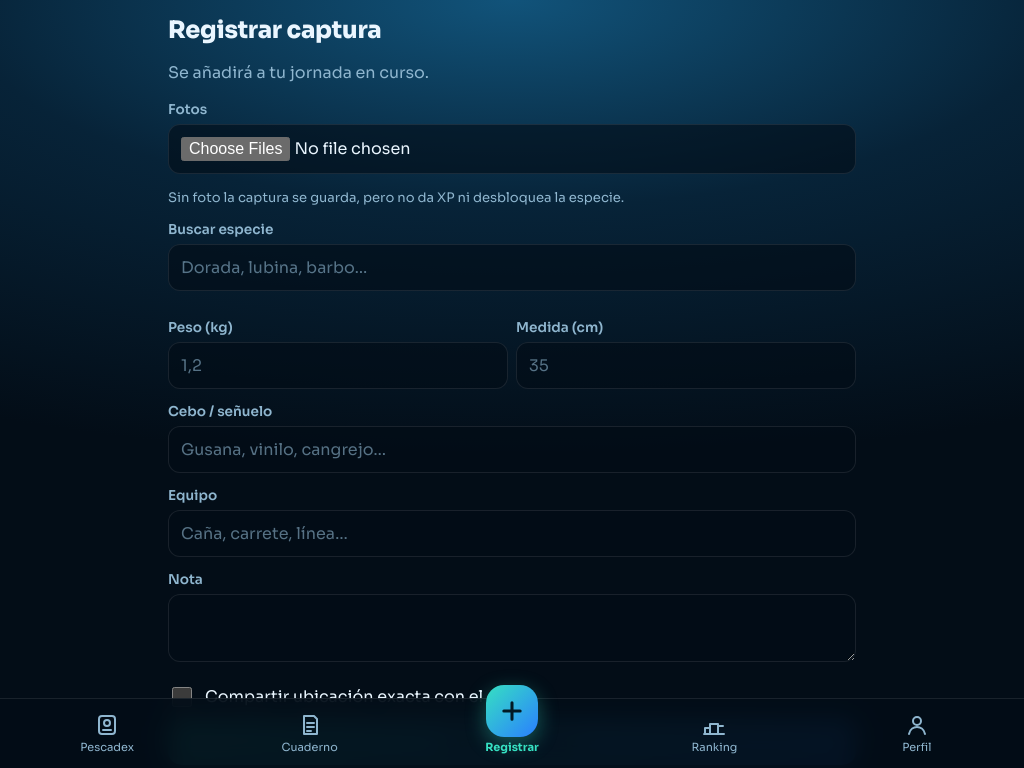
el buscador no ofrece especies protegidas
Type "angu" into the field labelled "Buscar especie".
click(512, 267); type("angu")  # box [168,244,856,291]
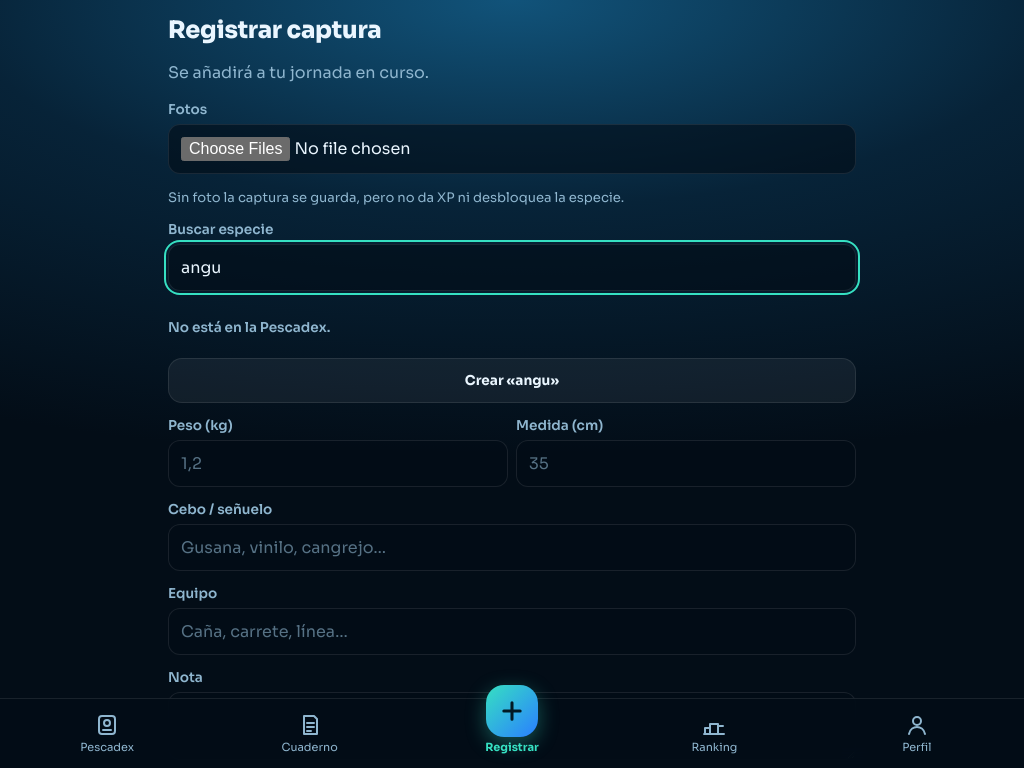
Replace the text in the field labelled "Buscar especie" with "dora" at (512, 267), box [168,244,856,291]
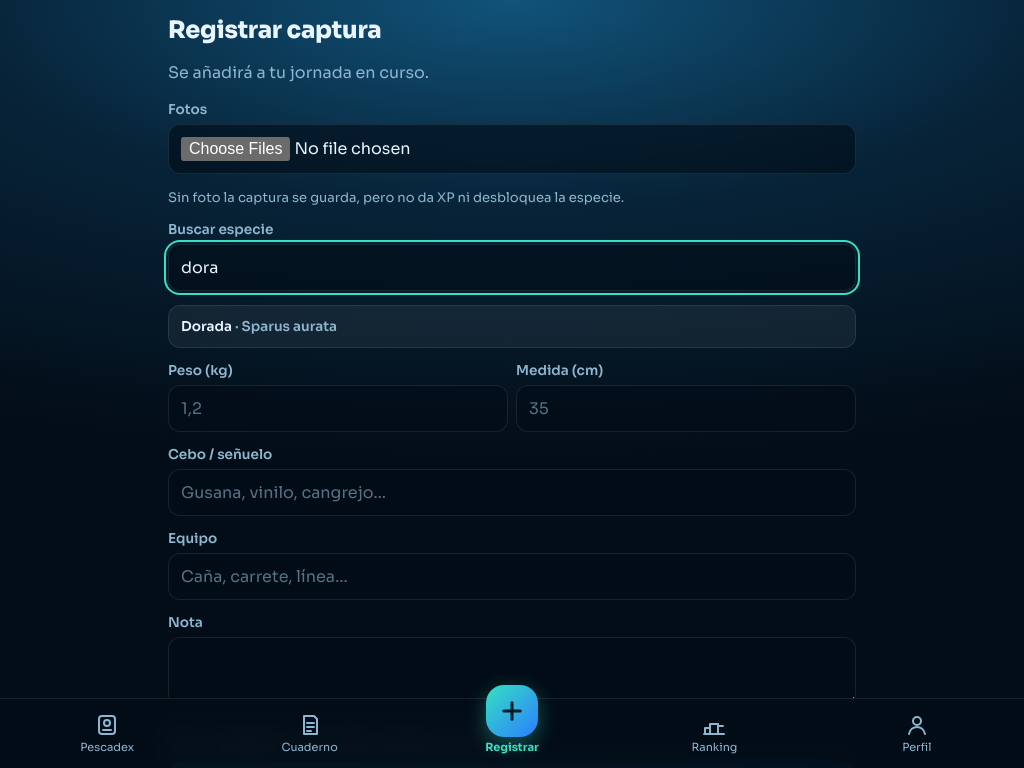
Check: the button "Dorada · Sparus aurata" is shown, box [168,305,856,348]
